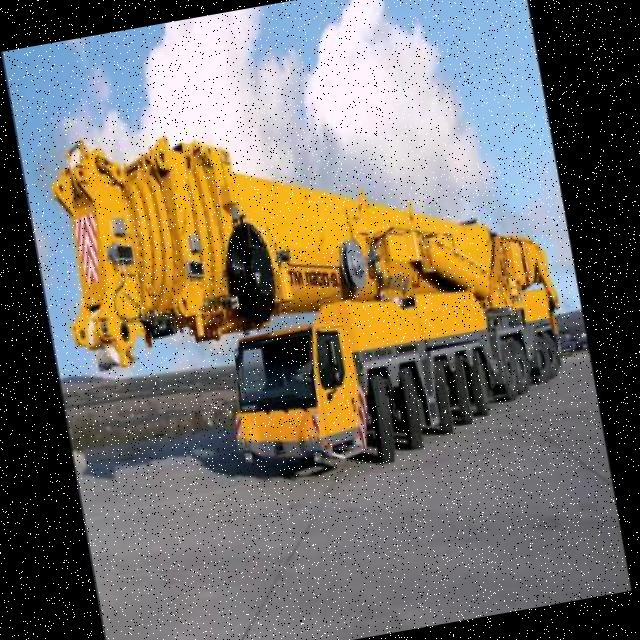Mobile Crane: (44, 70, 580, 513)
